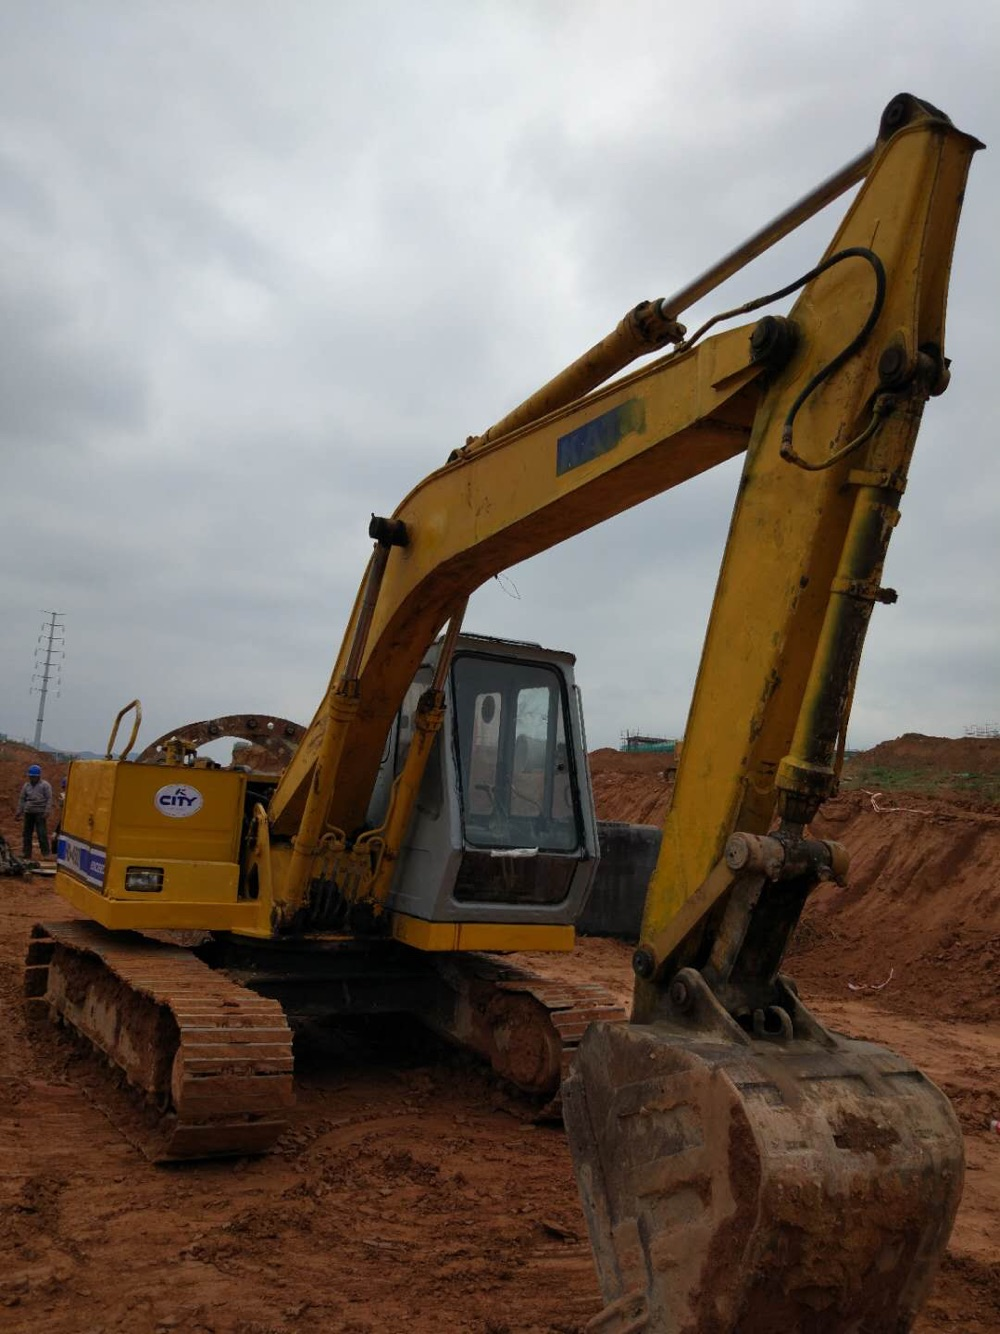excavator: (1, 83, 986, 1315)
